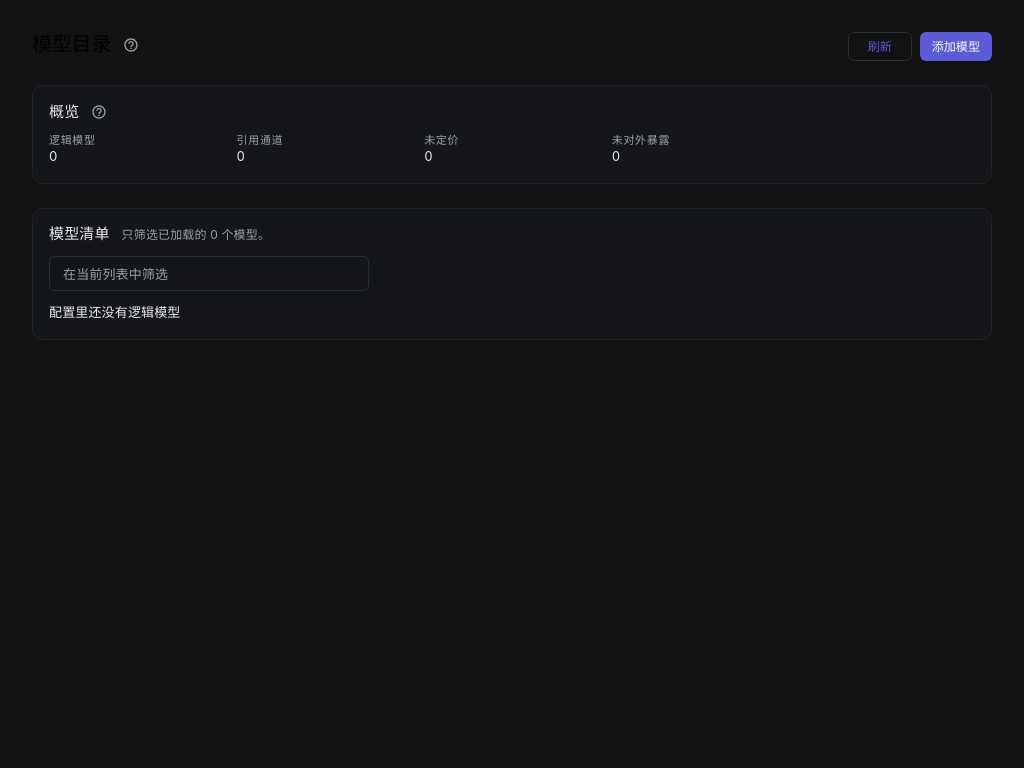
Test: 空 / 错误 / 加载：都不许拿假数据填坑 › [判据 A] 空态**不再**重复页头那个「添加模型」（同一屏不许两个同标签同动作的入口）
expect the element with test id "models-empty" is shown: met, box [49,304,180,320]
Click the button with test id "models-add-open".
click(956, 47)  # box [920,32,992,61]
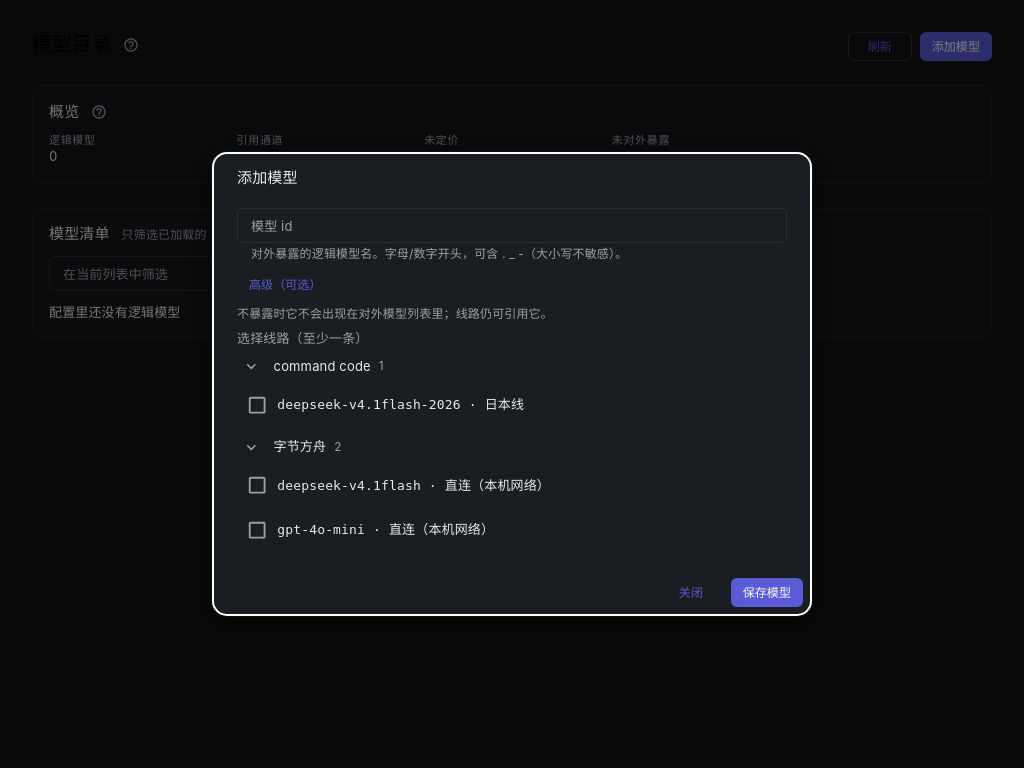
expect the button with test id "models-add-submit" is shown: met, box [731,578,803,607]
